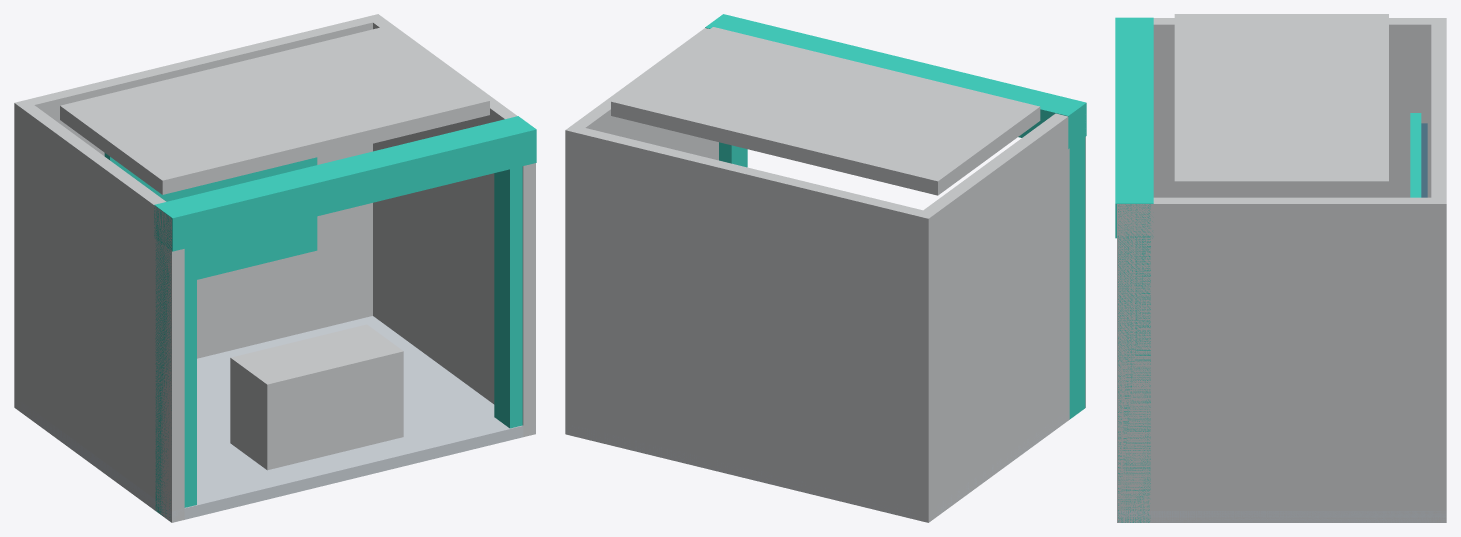
3 renders of one model, left to right at view 1: azimuth 30°, elevation 25°; view 2: azimuth 150°, elevation 25°; view 3: azimuth 270°, elevation 25°, orthographic. The views are drawn at different scales.
Parts seen in each view (by area): view 1: Exhibition Booth Concept; view 2: Exhibition Booth Concept; view 3: Exhibition Booth Concept.
Boxes of the visible parts, left/top/right/bottom form: Exhibition Booth Concept: left=14, top=14, right=536, bottom=522; Exhibition Booth Concept: left=565, top=14, right=1086, bottom=522; Exhibition Booth Concept: left=1115, top=14, right=1446, bottom=522.
Size of the model in its own units: 4 by 3.34 by 3.01.
